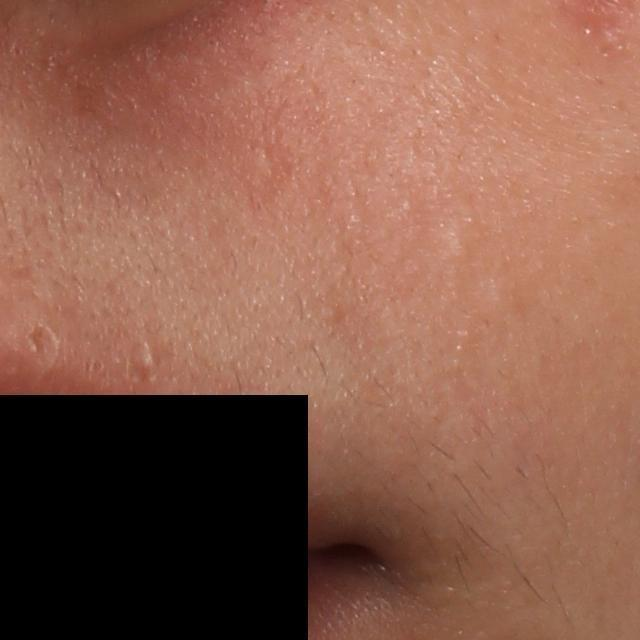atrophic_scar: (123, 339, 161, 385), (31, 323, 60, 367)
comedo: (443, 231, 473, 258)
